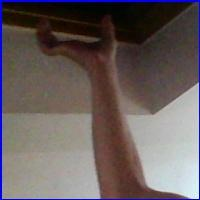space: (28, 13, 119, 70)
